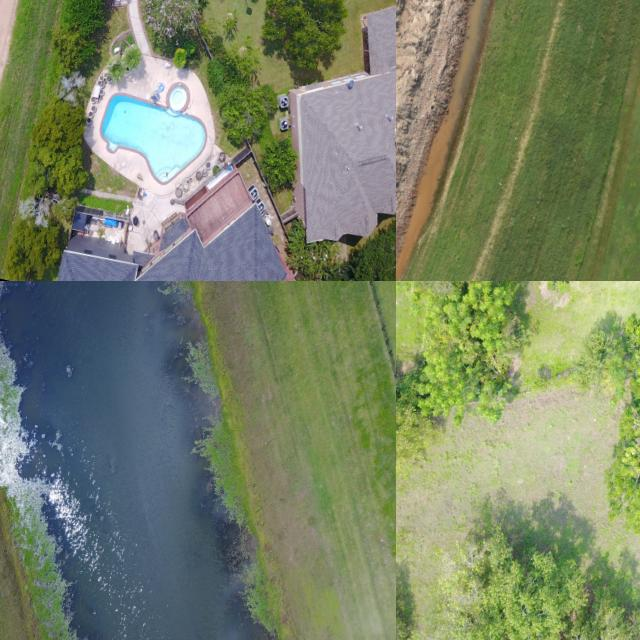fire: (0, 281, 250, 640)
